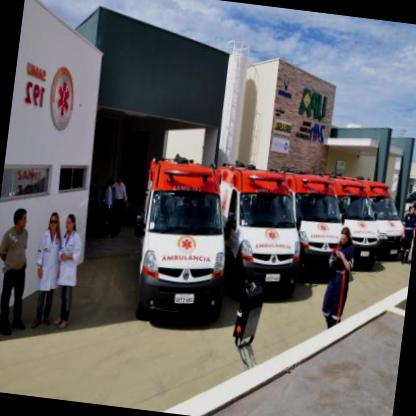truck: (129, 153, 240, 327), (205, 158, 314, 296), (276, 170, 349, 280), (318, 175, 386, 271), (354, 182, 412, 262)
